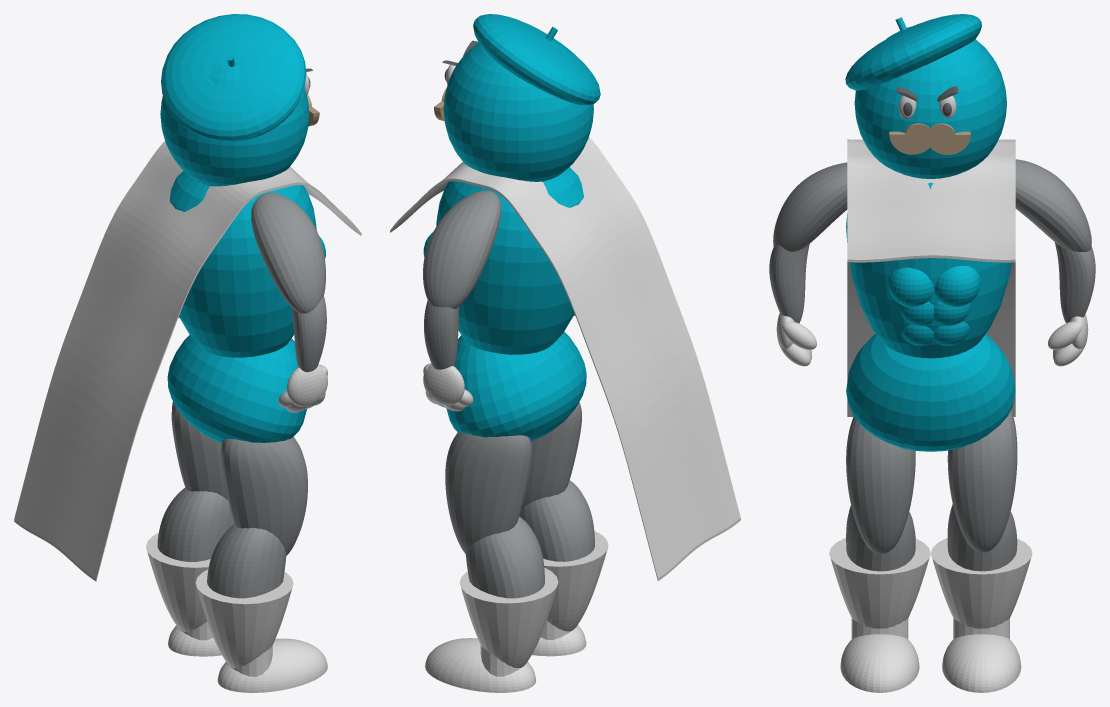
File: TomSuperHero-Male.glb
3 views of the same model, side by side, from view 1: azimuth 30°, elevation 25°; view 2: azimuth 150°, elevation 25°; view 3: azimuth 270°, elevation 25° (orthographic). The views are drawn at different scales.
Parts seen in each view (by area): view 1: Mesh_Mesh_head_geo.001_lambert2SG.001; view 2: Mesh_Mesh_head_geo.001_lambert2SG.001; view 3: Mesh_Mesh_head_geo.001_lambert2SG.001.
Boxes of the visible parts, box(x1,y1,x2,y2) form: Mesh_Mesh_head_geo.001_lambert2SG.001: box(14, 14, 361, 692); Mesh_Mesh_head_geo.001_lambert2SG.001: box(390, 14, 740, 692); Mesh_Mesh_head_geo.001_lambert2SG.001: box(769, 14, 1095, 692).
Size of the model in its own units: 37 by 84.06 by 38.52.
